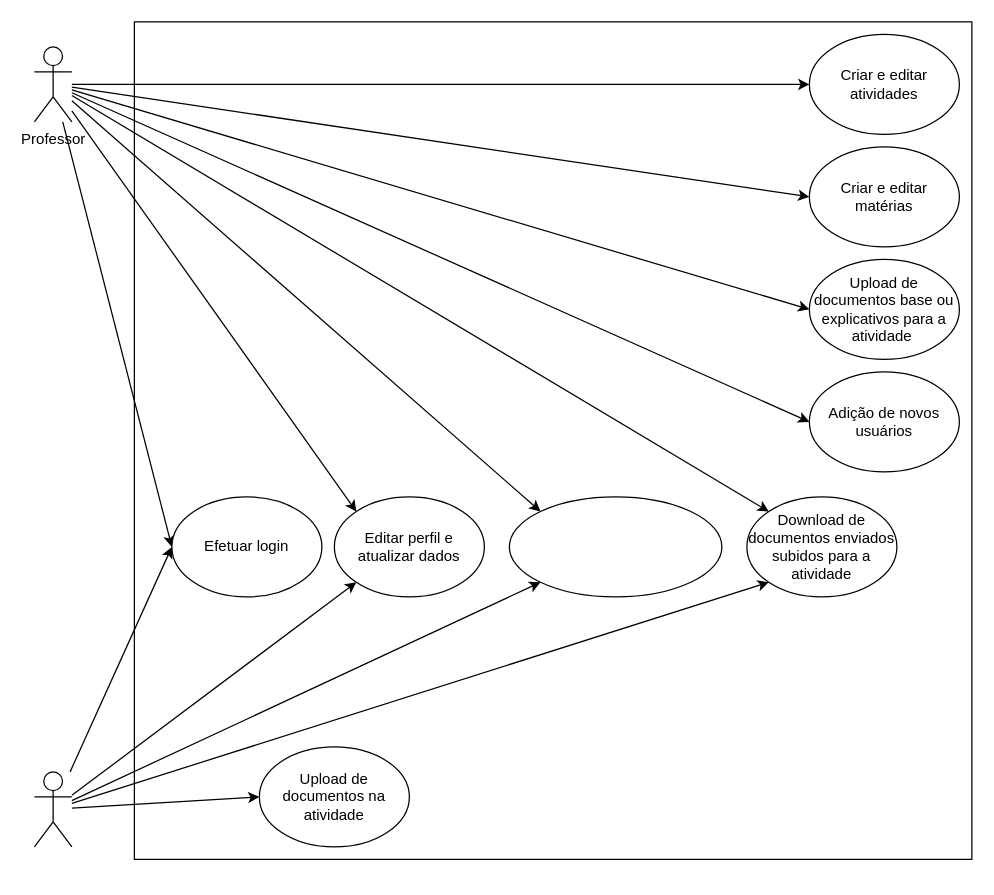
Some shapes in this 994 by 895 pixel diagram are drawn without their labels. The box of each missing label's shape, as (x1, y1, x2, y2) in pixels:
Aluno: (33, 771, 72, 847)
Edição/Exclusão/Adição de sub-tarefas: (508, 496, 722, 597)
